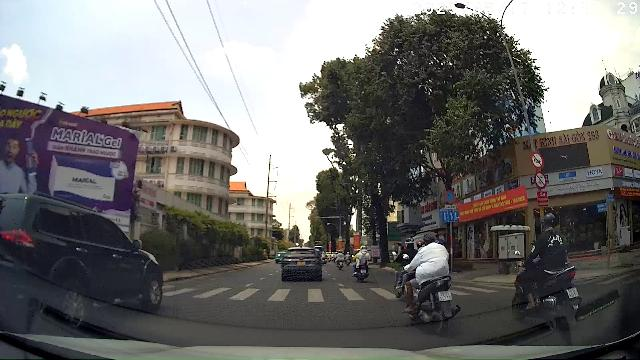128-cam-su-dung-coi: (529, 151, 545, 170)
